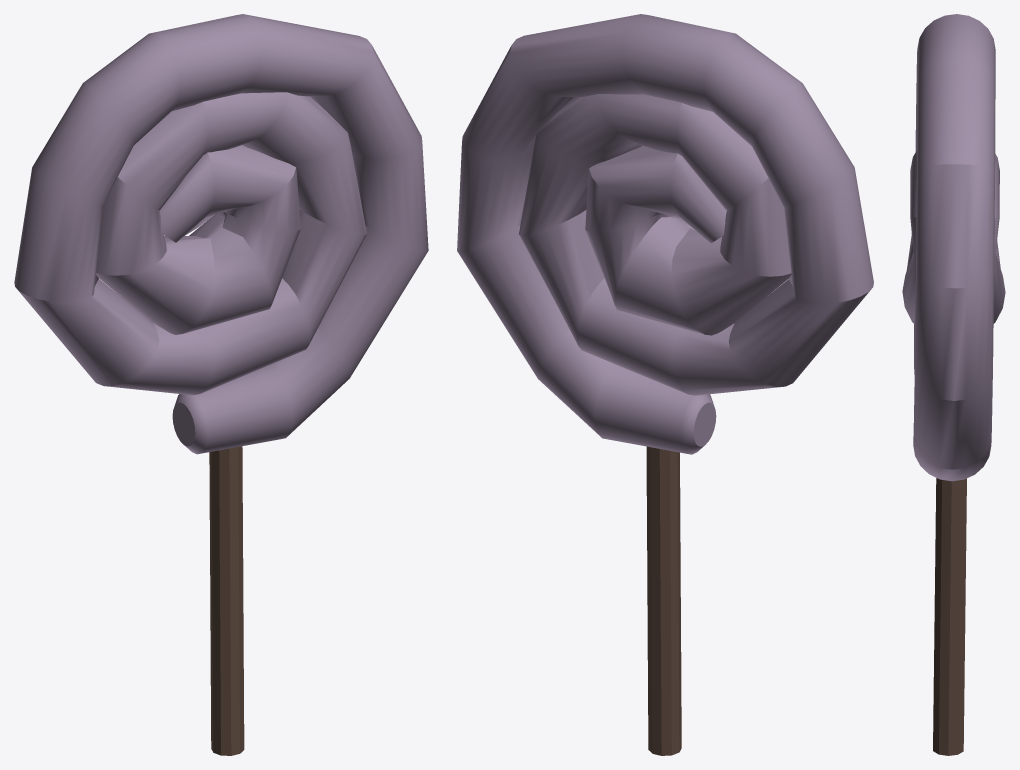
Rendered from rorippo.fbx.
3 views of the same model, side by side, from view 1: azimuth 30°, elevation 25°; view 2: azimuth 150°, elevation 25°; view 3: azimuth 270°, elevation 25° (orthographic). The views are drawn at different scales.
Visible parts, largest first — view 1: pCylinder3; view 2: pCylinder3; view 3: pCylinder3.
Boxes of the visible parts, <box> form: pCylinder3: <box>14,14,428,755</box>; pCylinder3: <box>457,14,873,755</box>; pCylinder3: <box>902,14,1005,755</box>.
Bounding box in the file's own units: 4.3 × 7.4 × 0.9815.
